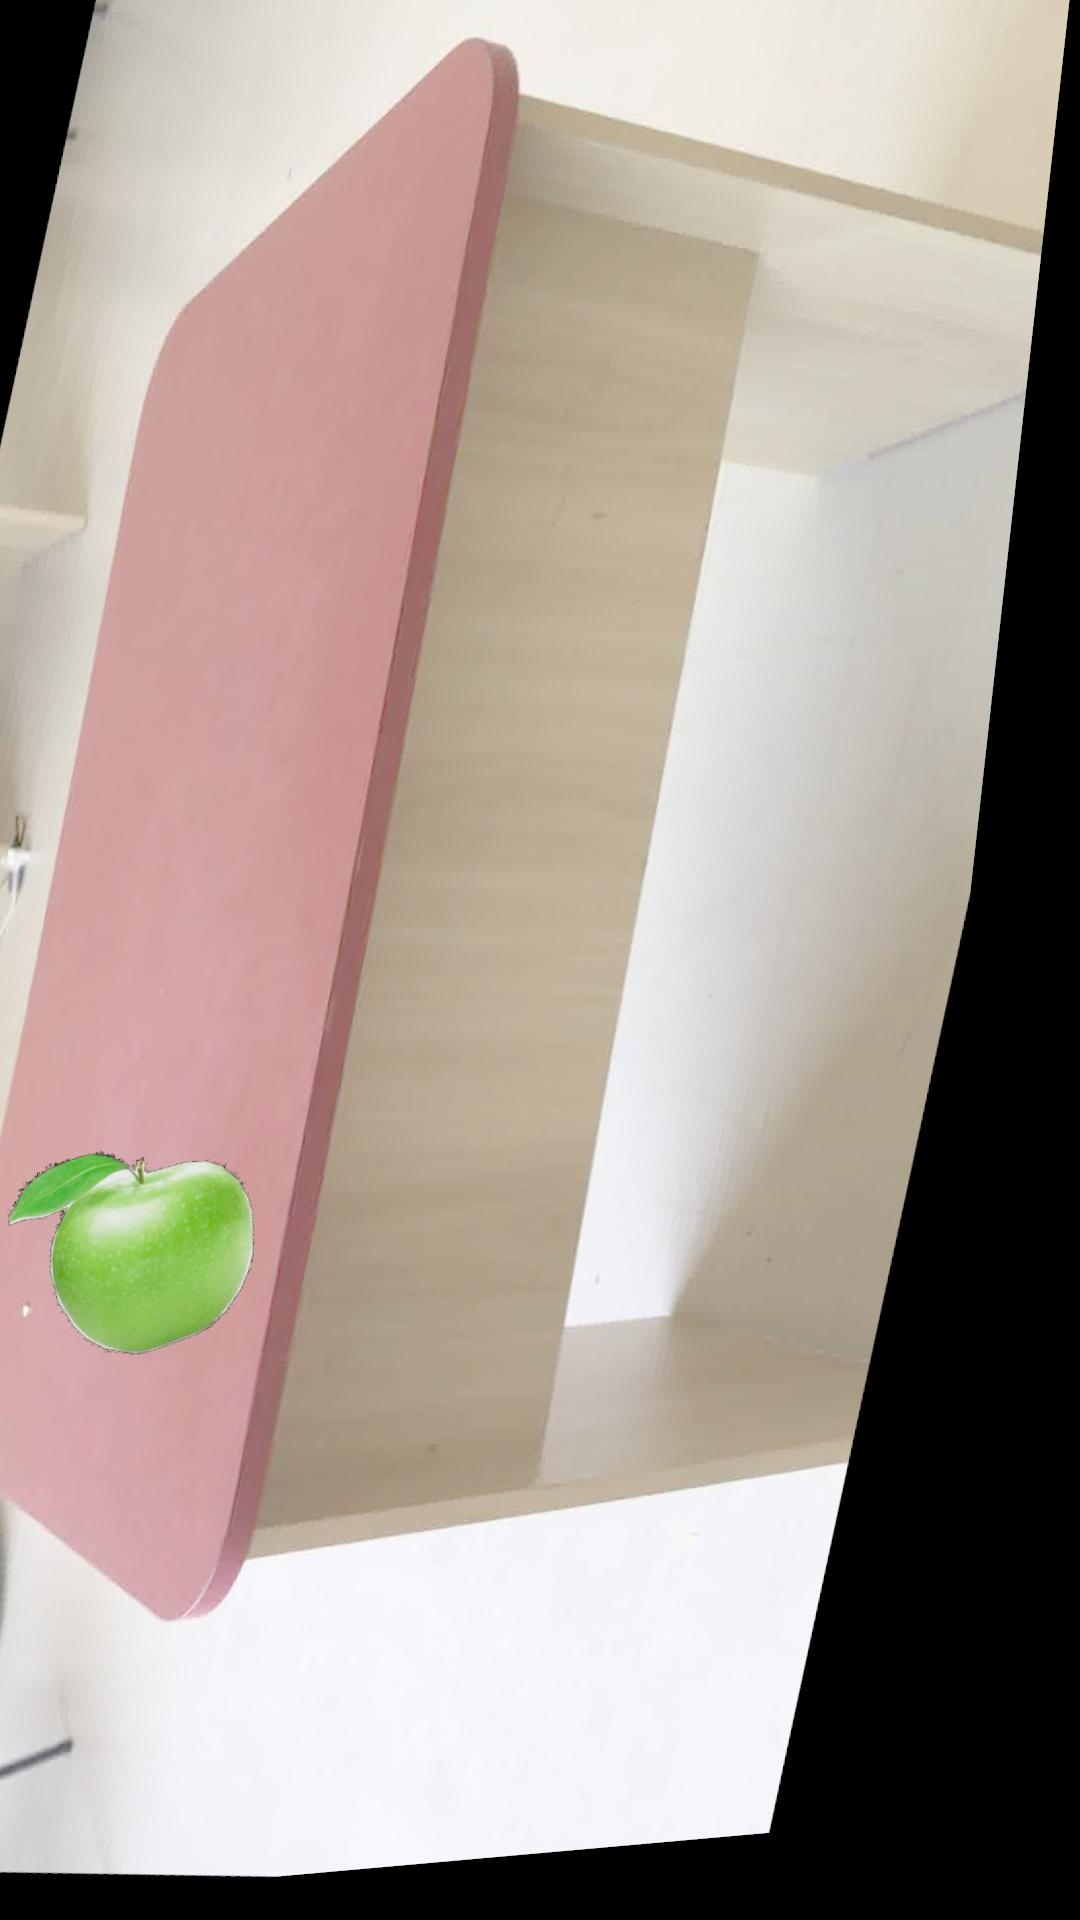green apple: (38, 1158, 285, 1362)
